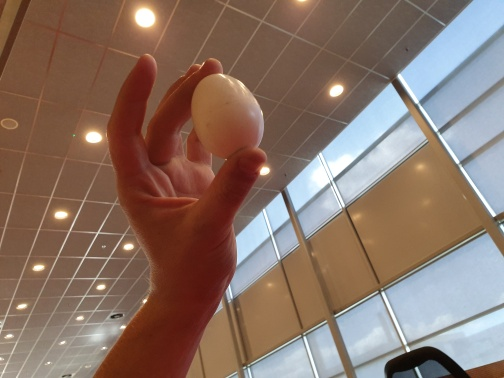egg: (191, 73, 267, 160)
